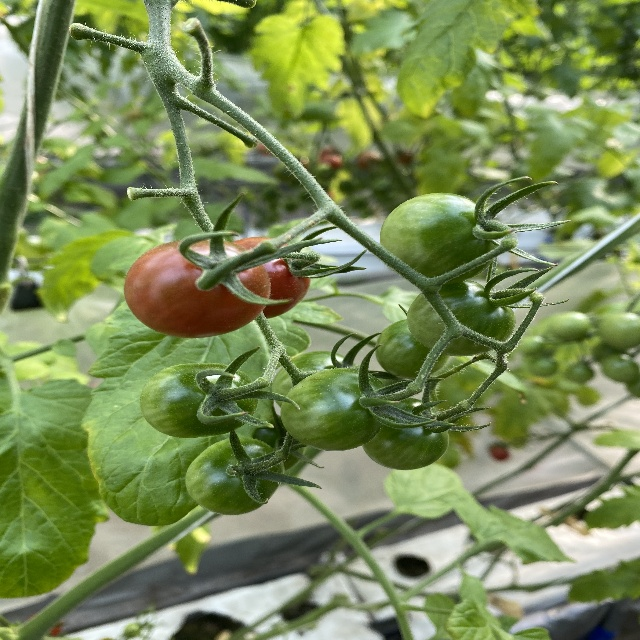l_fully_ripened: (234, 237, 312, 320)
l_green: (380, 192, 496, 285), (139, 363, 259, 439), (279, 369, 387, 451), (406, 280, 517, 357), (186, 436, 283, 515), (362, 398, 451, 470), (271, 350, 361, 406), (376, 319, 450, 379), (251, 414, 309, 473)
l_half_ripened: (123, 238, 271, 339)
